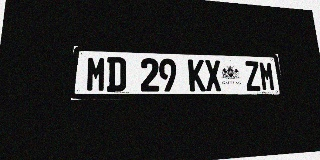2: (141, 58, 159, 92)
9: (159, 58, 177, 92)
D: (107, 57, 126, 92)
K: (188, 59, 206, 91)
M: (86, 56, 107, 92), (258, 61, 276, 91)
X: (204, 60, 222, 91)
Z: (244, 61, 261, 91)
